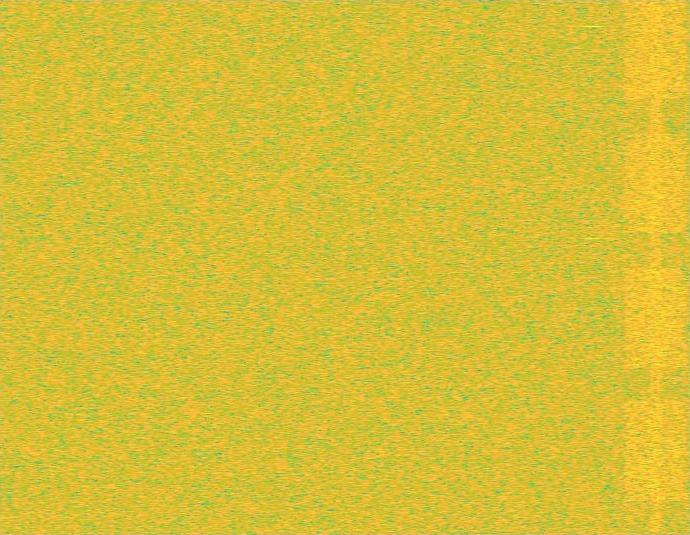5G: (621, 0, 689, 534)
DSSS: (648, 0, 663, 534)
Radar: (586, 0, 600, 534)
